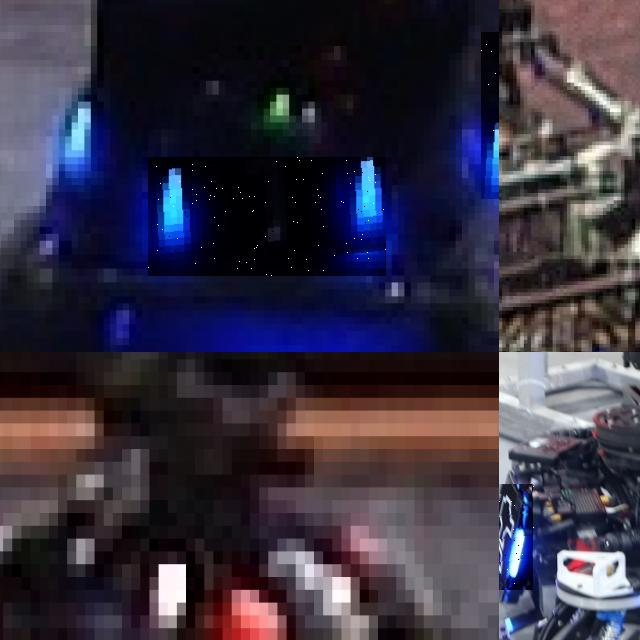B1: (148, 157, 386, 276), (481, 32, 499, 199)
Bs: (499, 484, 534, 590)
